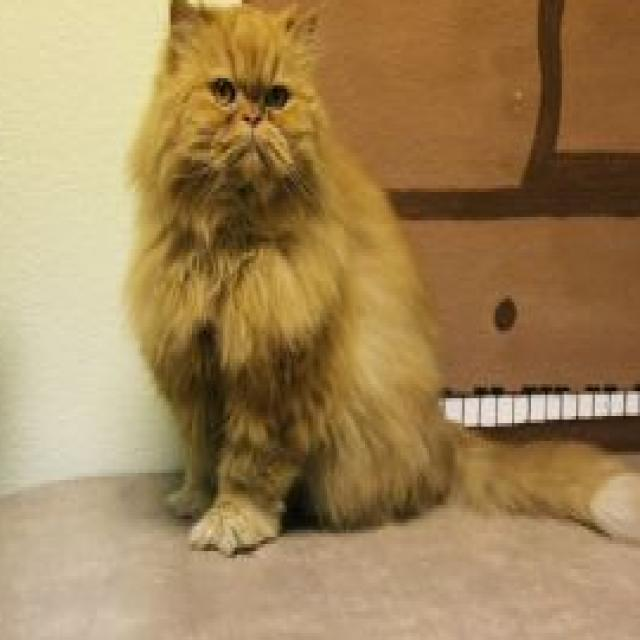Persian: (121, 0, 640, 558)
